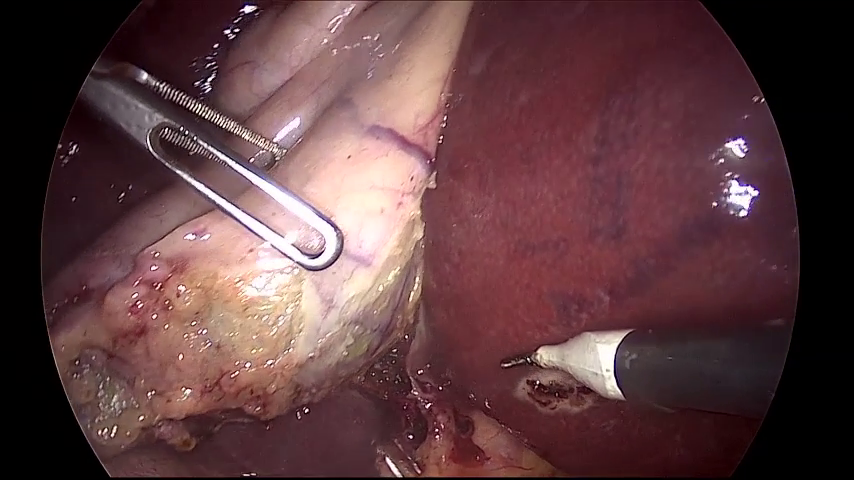grasper: (77, 56, 343, 270)
lhook: (501, 317, 795, 419)
